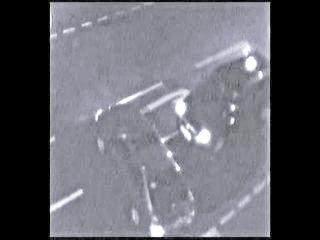Car: (95, 108, 192, 230), (179, 61, 269, 150)
Not Accident: (91, 59, 269, 232)
